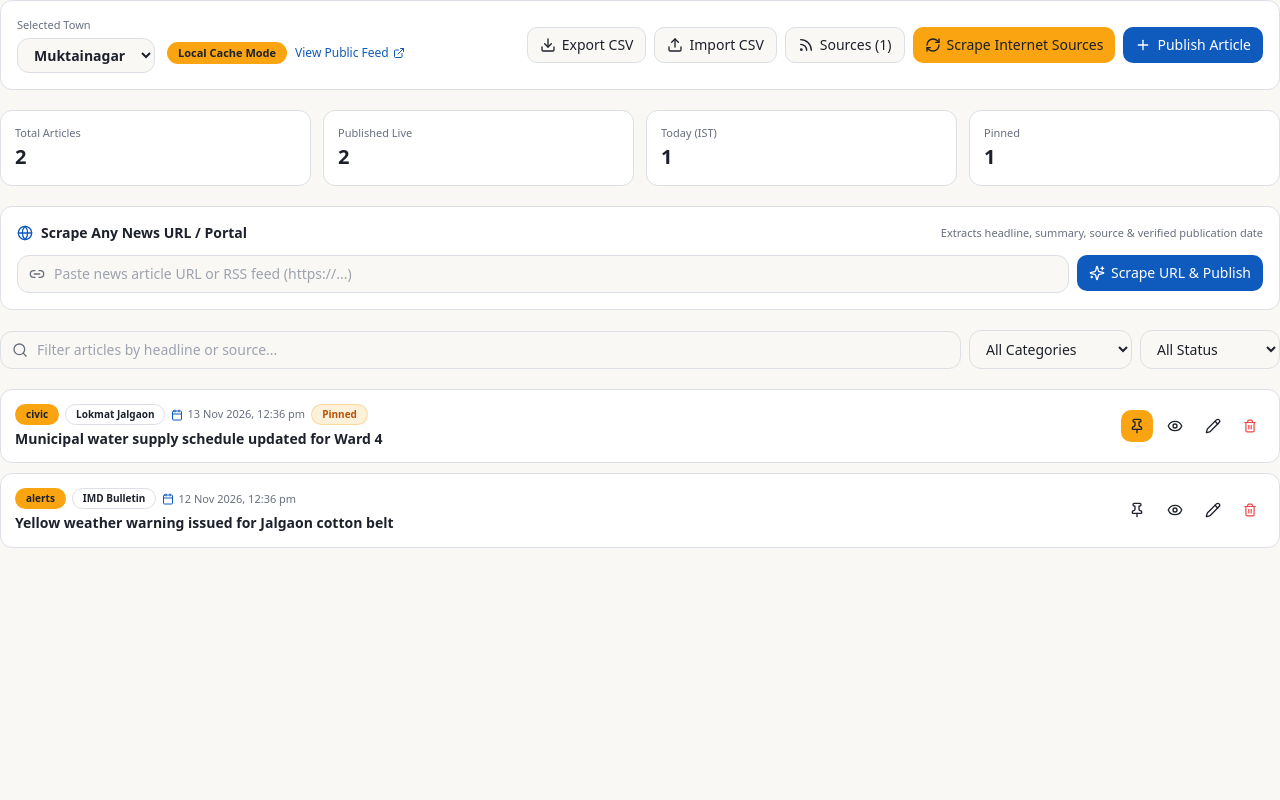
Scenario: Admin Nav & Local News UI › renders Admin LocalNewsTab, runs internet scraper, and opens manual dated article modal
Expected: the text "Municipal water supply schedule updated for Ward 4" is shown, [15,429,383,448]
# Scrape configured internet sources
Click the button "Scrape Internet Sources": [1014, 45] box [912,27,1115,63]
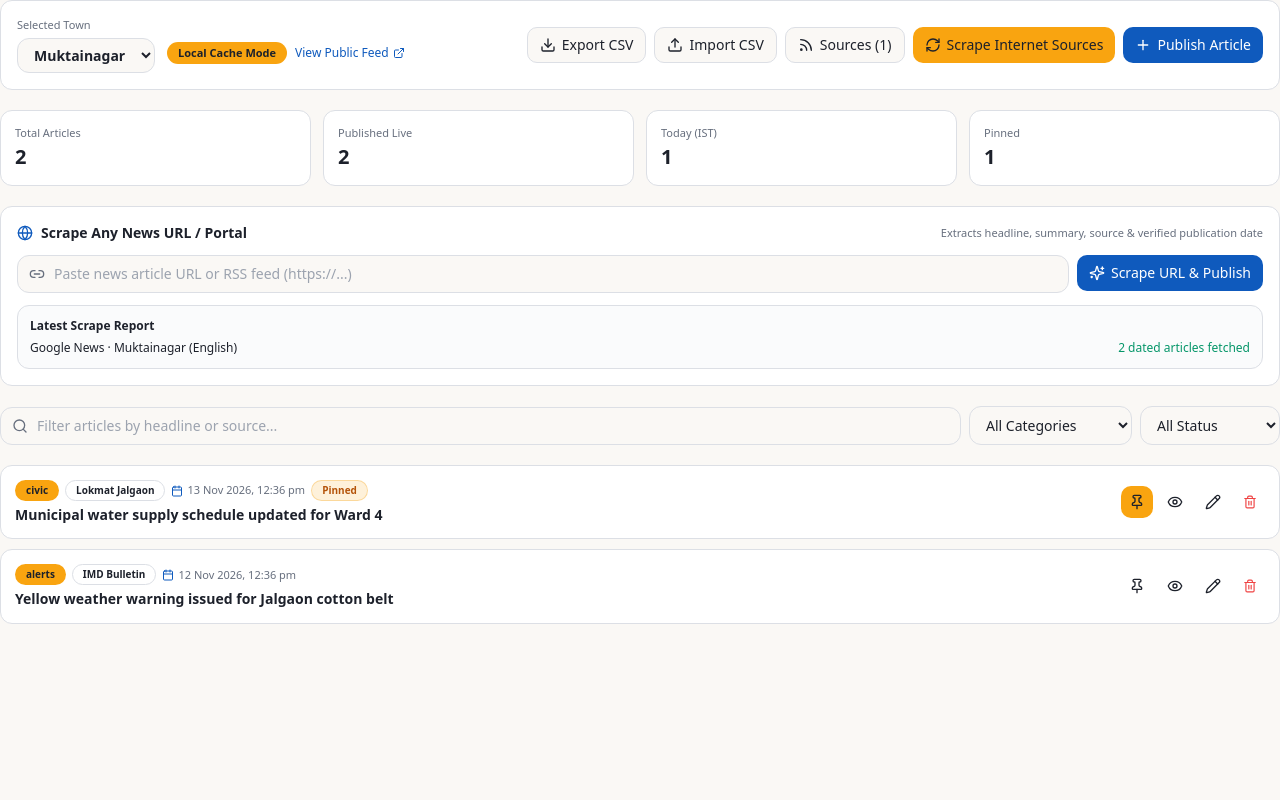
Expected: the text "2 dated articles fetched" is shown, [1118,340,1250,356]
# Open Publish Article modal
Click the button "Publish Article": [1193, 45] box [1123,27,1263,63]
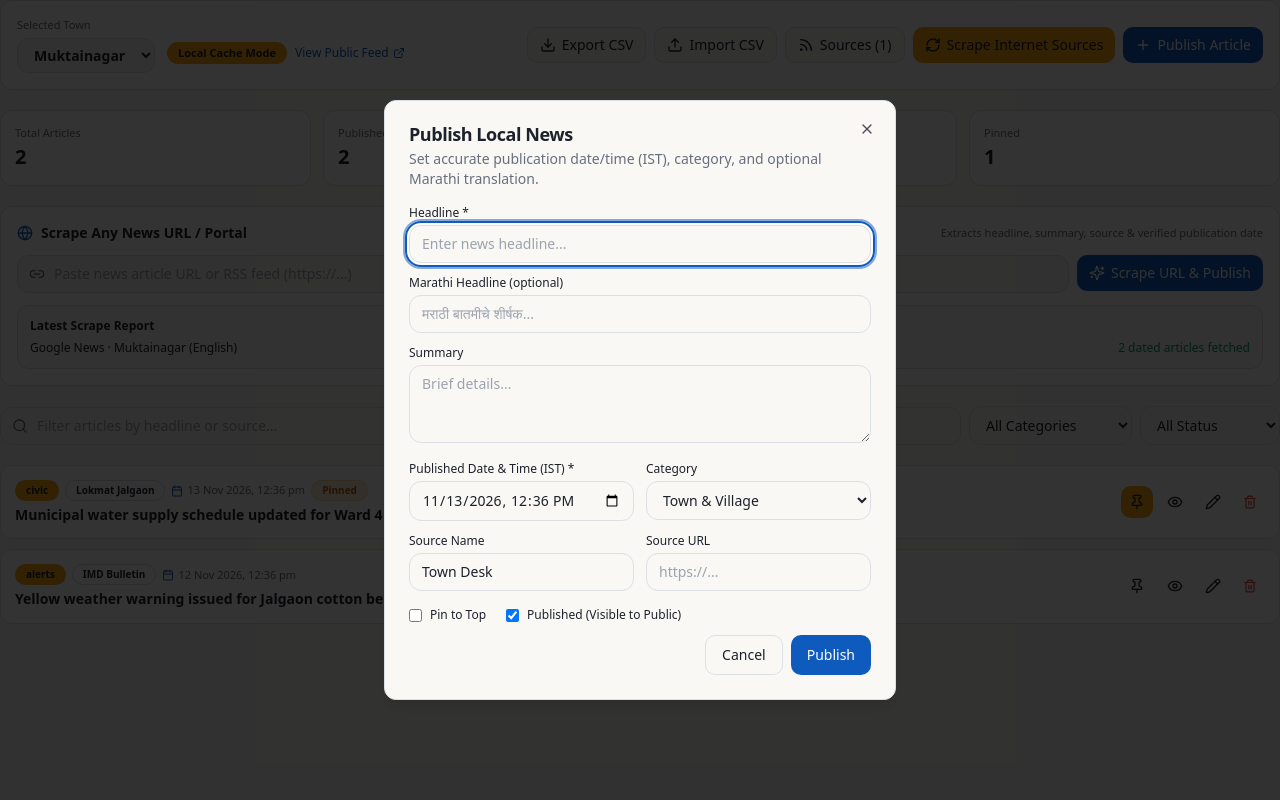
Expected: the dialog is shown, [384,100,896,700]
